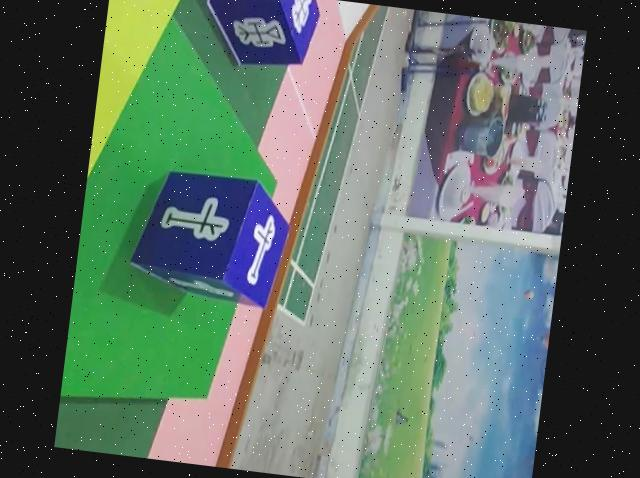R2 Real Blue: (122, 168, 295, 312), (196, 0, 319, 72)
